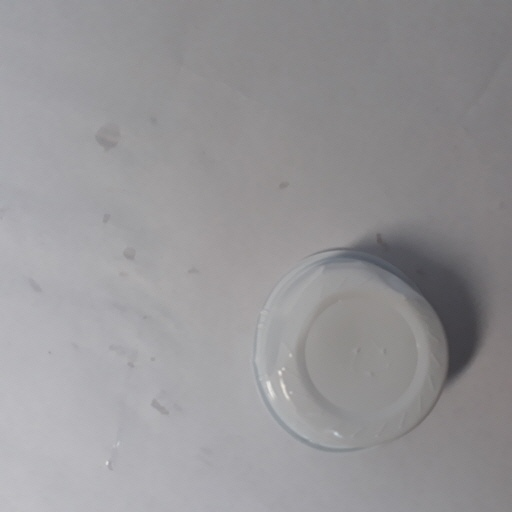Plastic_5: (248, 249, 454, 456)
